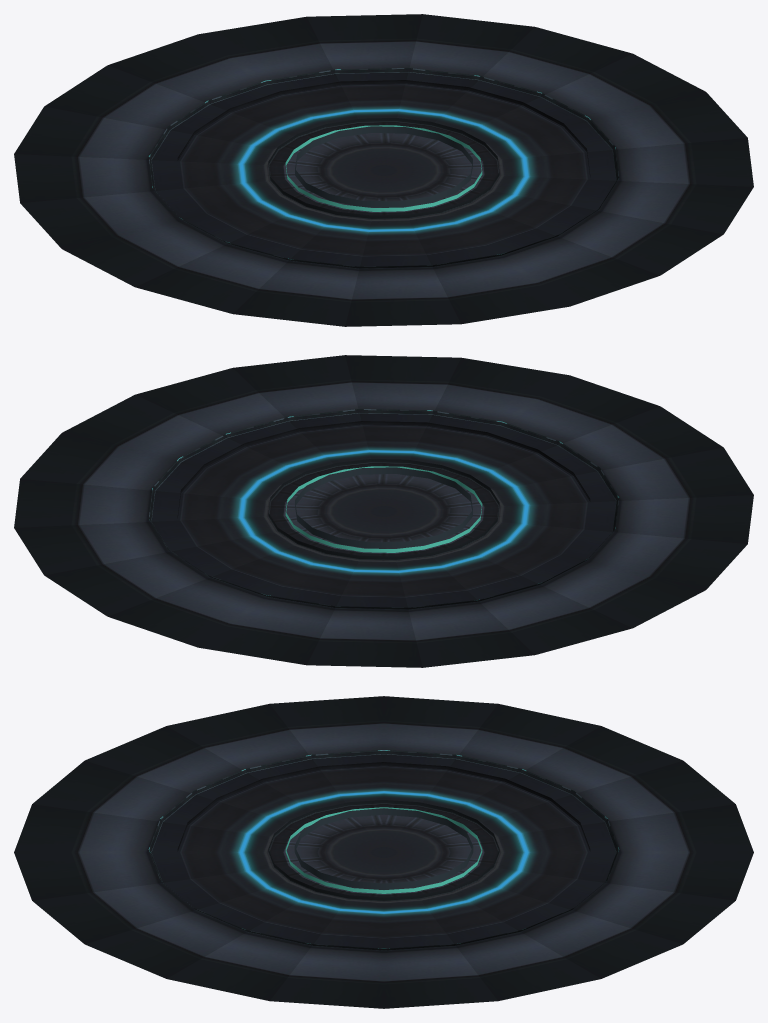
Rendered from MemoryRoom_roof.fbx.
3 renders of one model, top to bottom at view 1: azimuth 30°, elevation 25°; view 2: azimuth 150°, elevation 25°; view 3: azimuth 270°, elevation 25°, orthographic.
Visible parts, largest first — view 1: MemoryRoom_roof; view 2: MemoryRoom_roof; view 3: MemoryRoom_roof.
Part boxes in pixels (left/top/right/bottom): MemoryRoom_roof: left=14, top=14, right=753, bottom=326; MemoryRoom_roof: left=14, top=355, right=753, bottom=667; MemoryRoom_roof: left=14, top=696, right=753, bottom=1008.
Bounding box in the file's own units: 8.49 × 0.3855 × 8.49.
